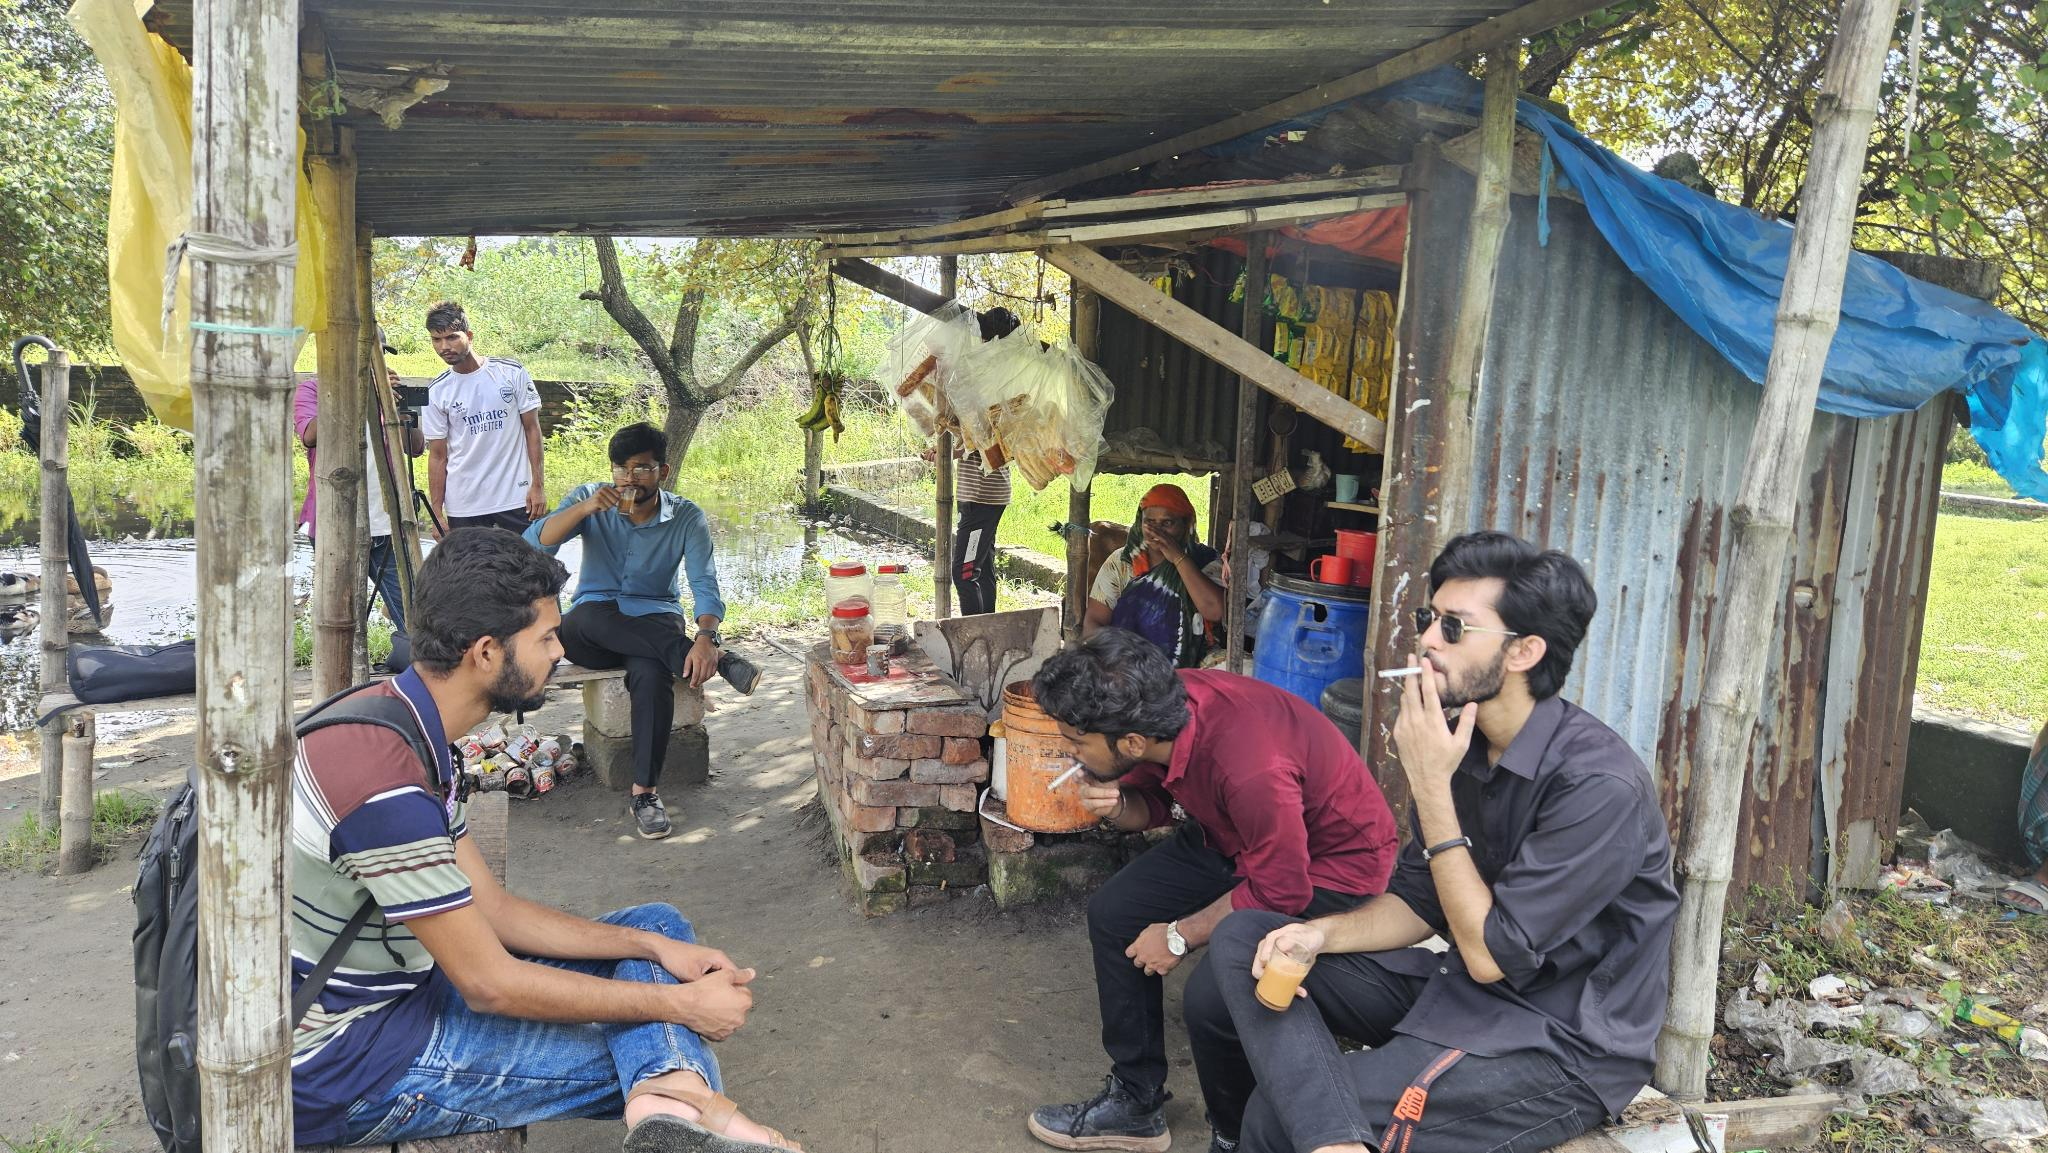cigarette: (1045, 761, 1086, 793), (1376, 665, 1425, 681)
nonSmoker: (283, 526, 798, 1153), (527, 426, 761, 841), (421, 301, 547, 534), (1082, 481, 1228, 668)
smoker: (1208, 532, 1682, 1153), (1031, 631, 1398, 1153)
